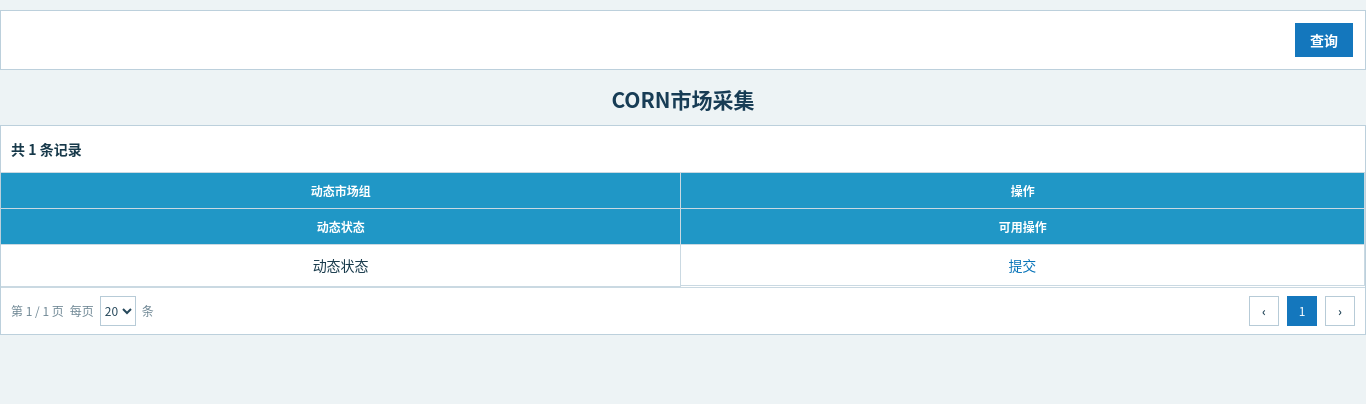
Scenario: MarketCollectionPage › shows an independent VALIDATION action alert
Click the button "提交": [1022, 265] box [1002, 254, 1042, 276]
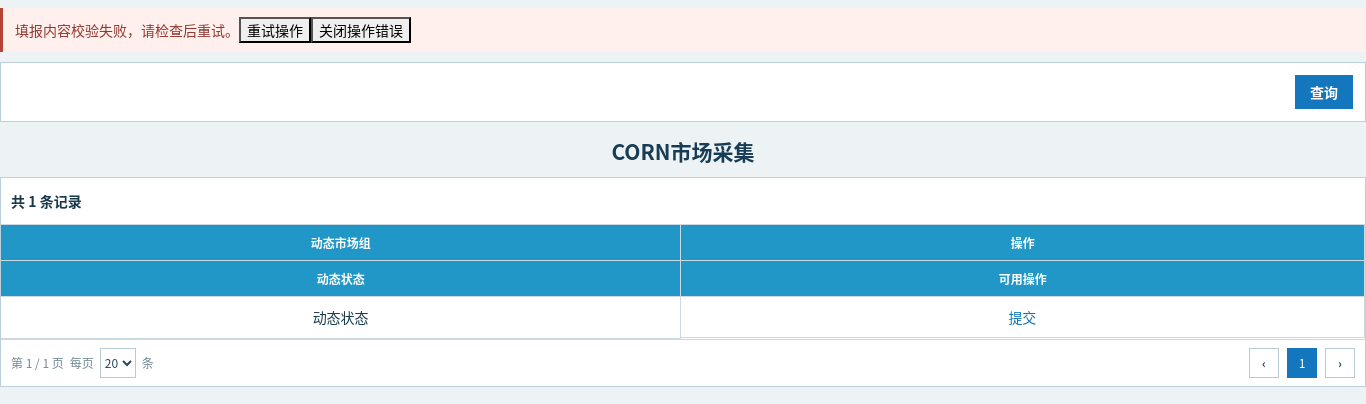
Now the message shows "填报内容校验失败，请检查后重试。", box [15, 20, 239, 40]
Now the button "重试操作" is shown, box [239, 17, 311, 43]
Now the button "关闭操作错误" is shown, box [311, 17, 411, 43]
